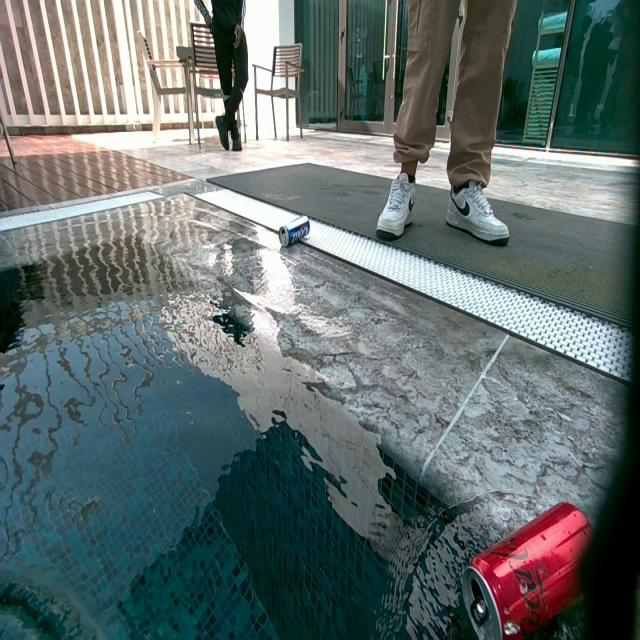Cans: (461, 502, 599, 639), (278, 215, 311, 247)
